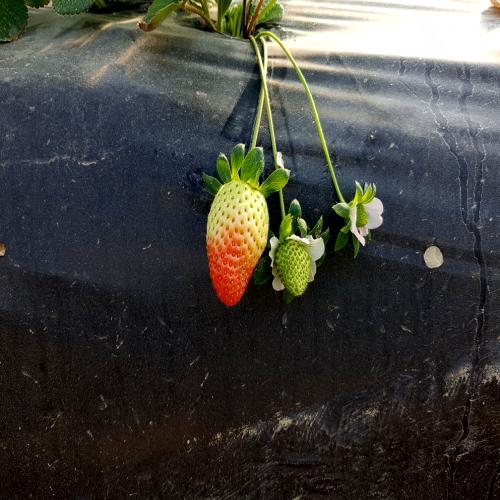partially-ripe: (200, 177, 271, 310)
unripe: (275, 228, 313, 305)
